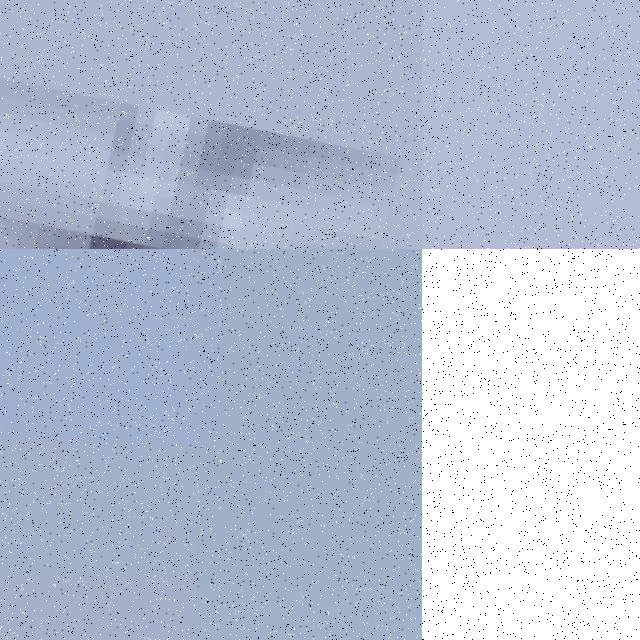drone: (0, 0, 422, 249)
